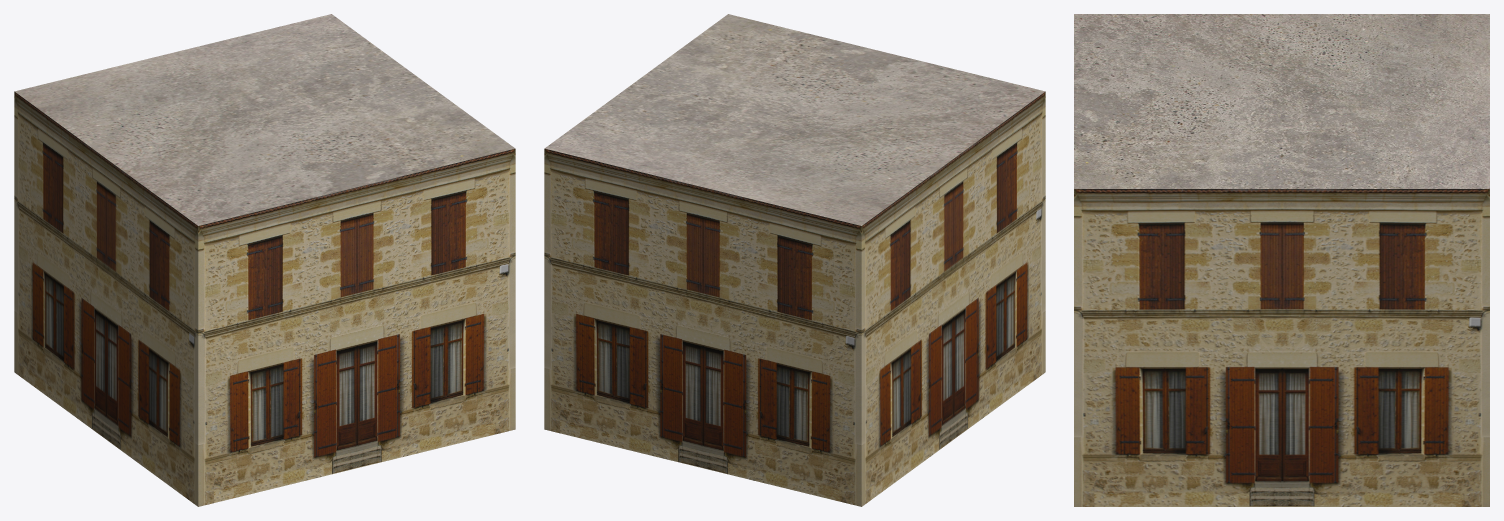
The model's file is BagBuilding8_0.fbx.
3 renders of one model, left to right at view 1: azimuth 30°, elevation 25°; view 2: azimuth 150°, elevation 25°; view 3: azimuth 270°, elevation 25°, orthographic. The views are drawn at different scales.
Parts seen in each view (by area): view 1: Box0, roof0; view 2: Box0, roof0; view 3: Box0, roof0.
Boxes of the visible parts, x1,y1,x2,y2 form: Box0: (14,91,515,506); roof0: (15,14,514,225); Box0: (544,91,1045,506); roof0: (545,14,1044,225); Box0: (1074,189,1489,506); roof0: (1074,14,1489,188).
Bounding box in the file's own units: 16.82 × 14.23 × 16.88.
